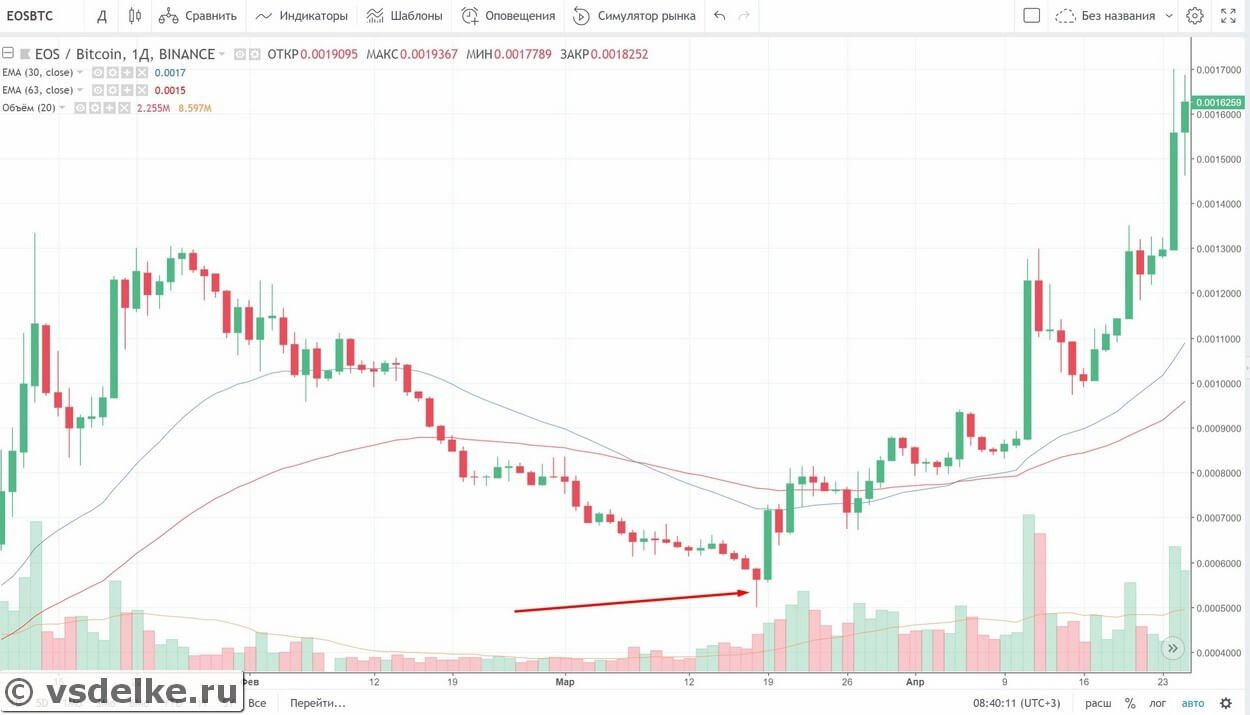hangingMan: (751, 565, 762, 615)
shootingStar: (538, 457, 558, 496)
